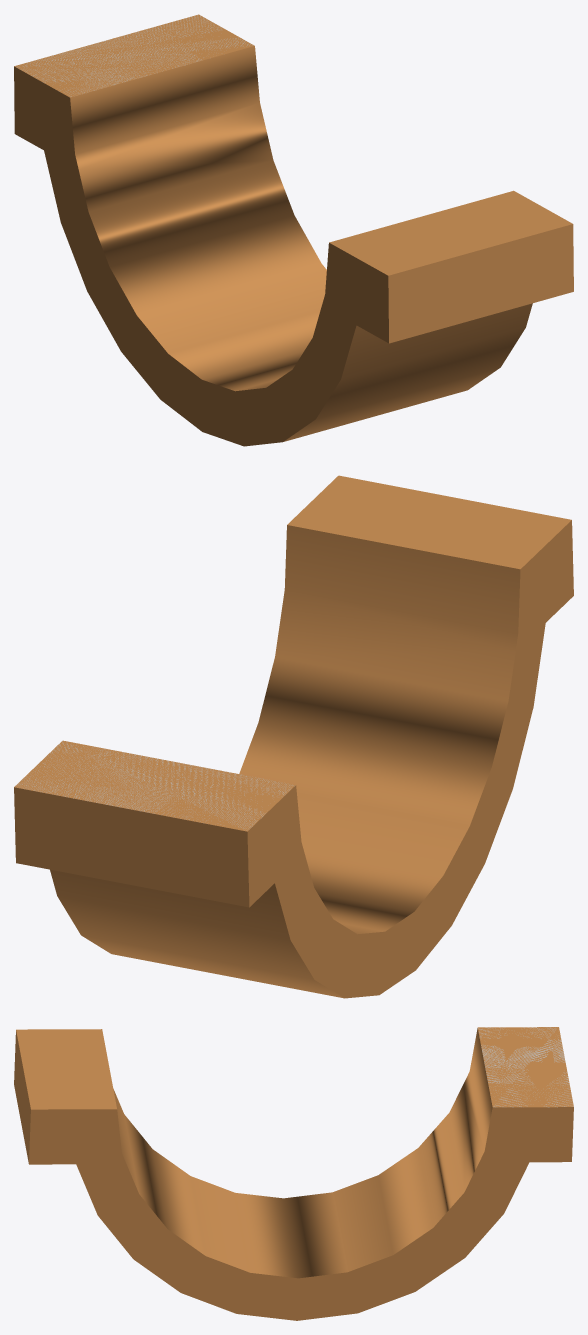
The model's file is original-6.obj.
3 renders of one model, top to bottom at view 1: azimuth 30°, elevation 25°; view 2: azimuth 150°, elevation 25°; view 3: azimuth 270°, elevation 25°, orthographic. The views are drawn at different scales.
Parts seen in each view (by area): view 1: Group6/mesh8/mesh8-geometry#mesh8-geometry; view 2: Group6/mesh8/mesh8-geometry#mesh8-geometry; view 3: Group6/mesh8/mesh8-geometry#mesh8-geometry.
Boxes of the visible parts, x1=… form: Group6/mesh8/mesh8-geometry#mesh8-geometry: x1=14, y1=14, x2=573, y2=446; Group6/mesh8/mesh8-geometry#mesh8-geometry: x1=14, y1=475, x2=573, y2=998; Group6/mesh8/mesh8-geometry#mesh8-geometry: x1=14, y1=1027, x2=573, y2=1320.
Bounding box in the file's own units: 0.0263 × 0.0282 × 0.0641.
